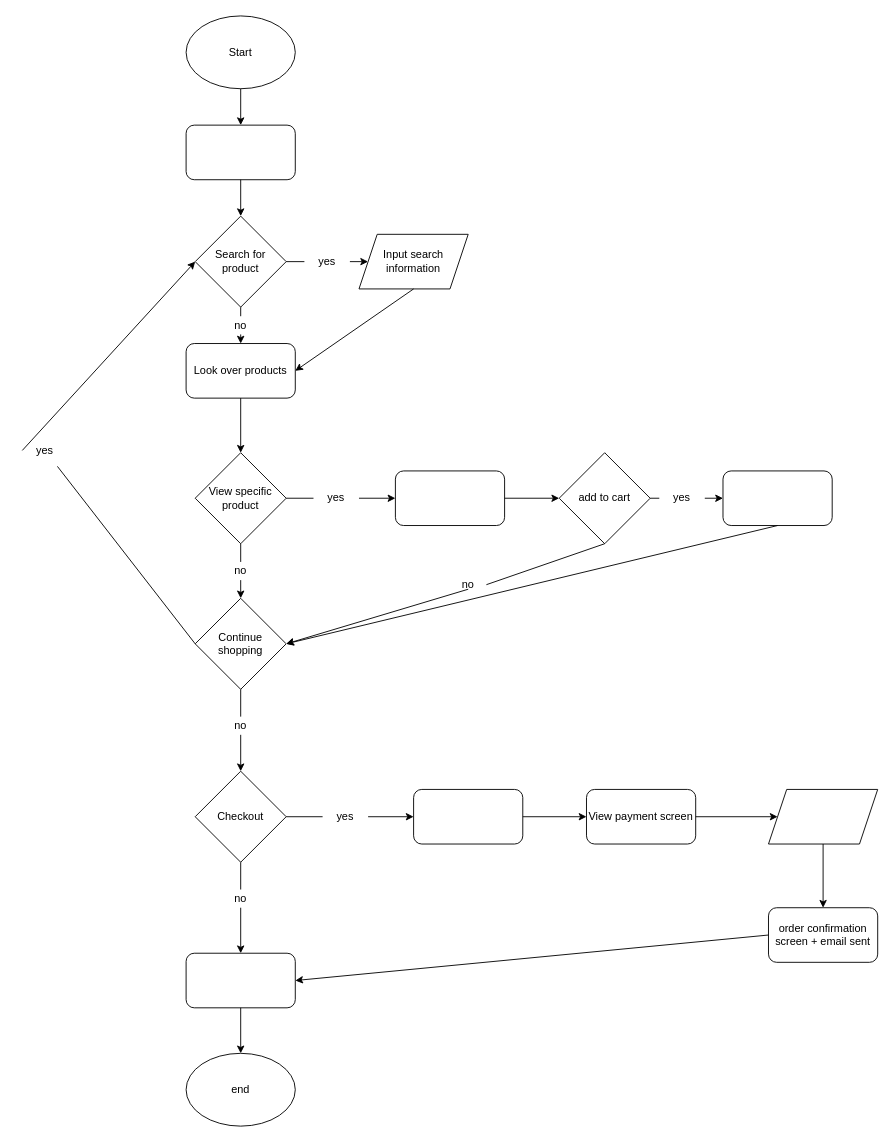
This 894x1142 diagram has some shape labels left out. Here are the shapes that lost their labels. From the top down, the centre of each, then its label:
At pixel 240 152: "User enters website".
At pixel 449 498: "specific product webpage opens".
At pixel 777 498: "cart confirmation".
At pixel 468 816: "View cart screen".
At pixel 823 816: "Input payment information + pay".
At pixel 240 980: "leave the website".
